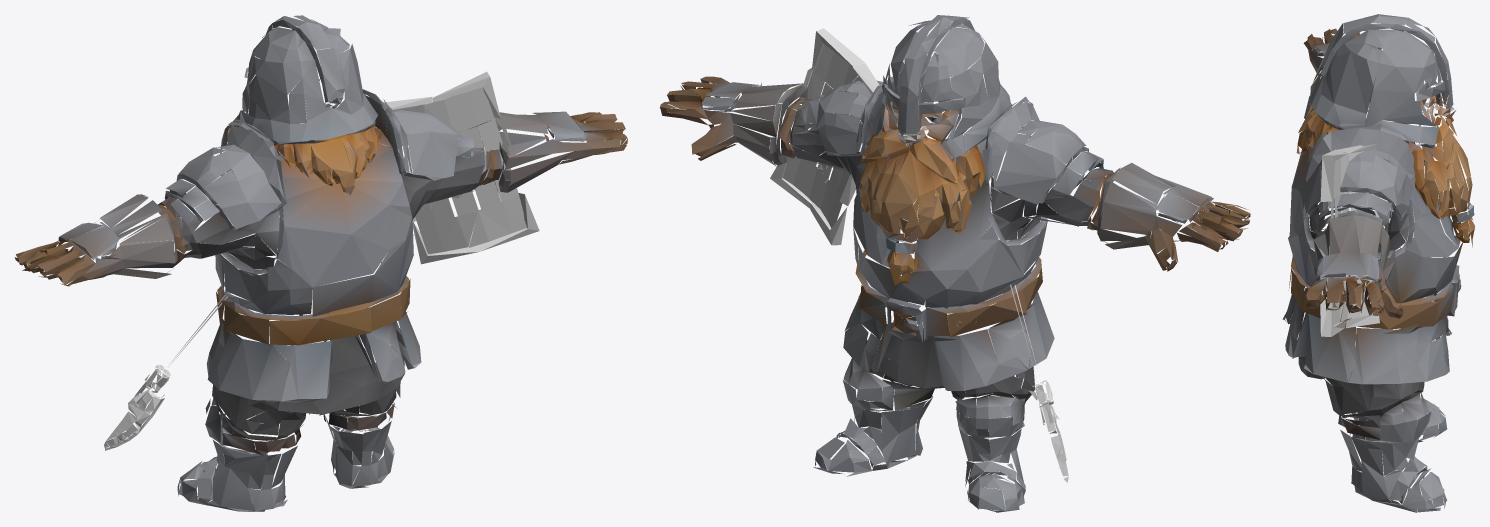
Rendered from spearmen.glb.
The picture shows the model from 3 angles, left to right: view 1: azimuth 30°, elevation 25°; view 2: azimuth 150°, elevation 25°; view 3: azimuth 270°, elevation 25°; orthographic projection. The views are drawn at different scales.
Parts seen in each view (by area): view 1: spearmen; view 2: spearmen; view 3: spearmen.
Boxes of the visible parts, bbox=[...] form: spearmen: bbox=[14, 15, 627, 511]; spearmen: bbox=[660, 15, 1250, 512]; spearmen: bbox=[1282, 14, 1474, 512].
Size of the model in its own units: 2.15 by 1.62 by 0.6345.
